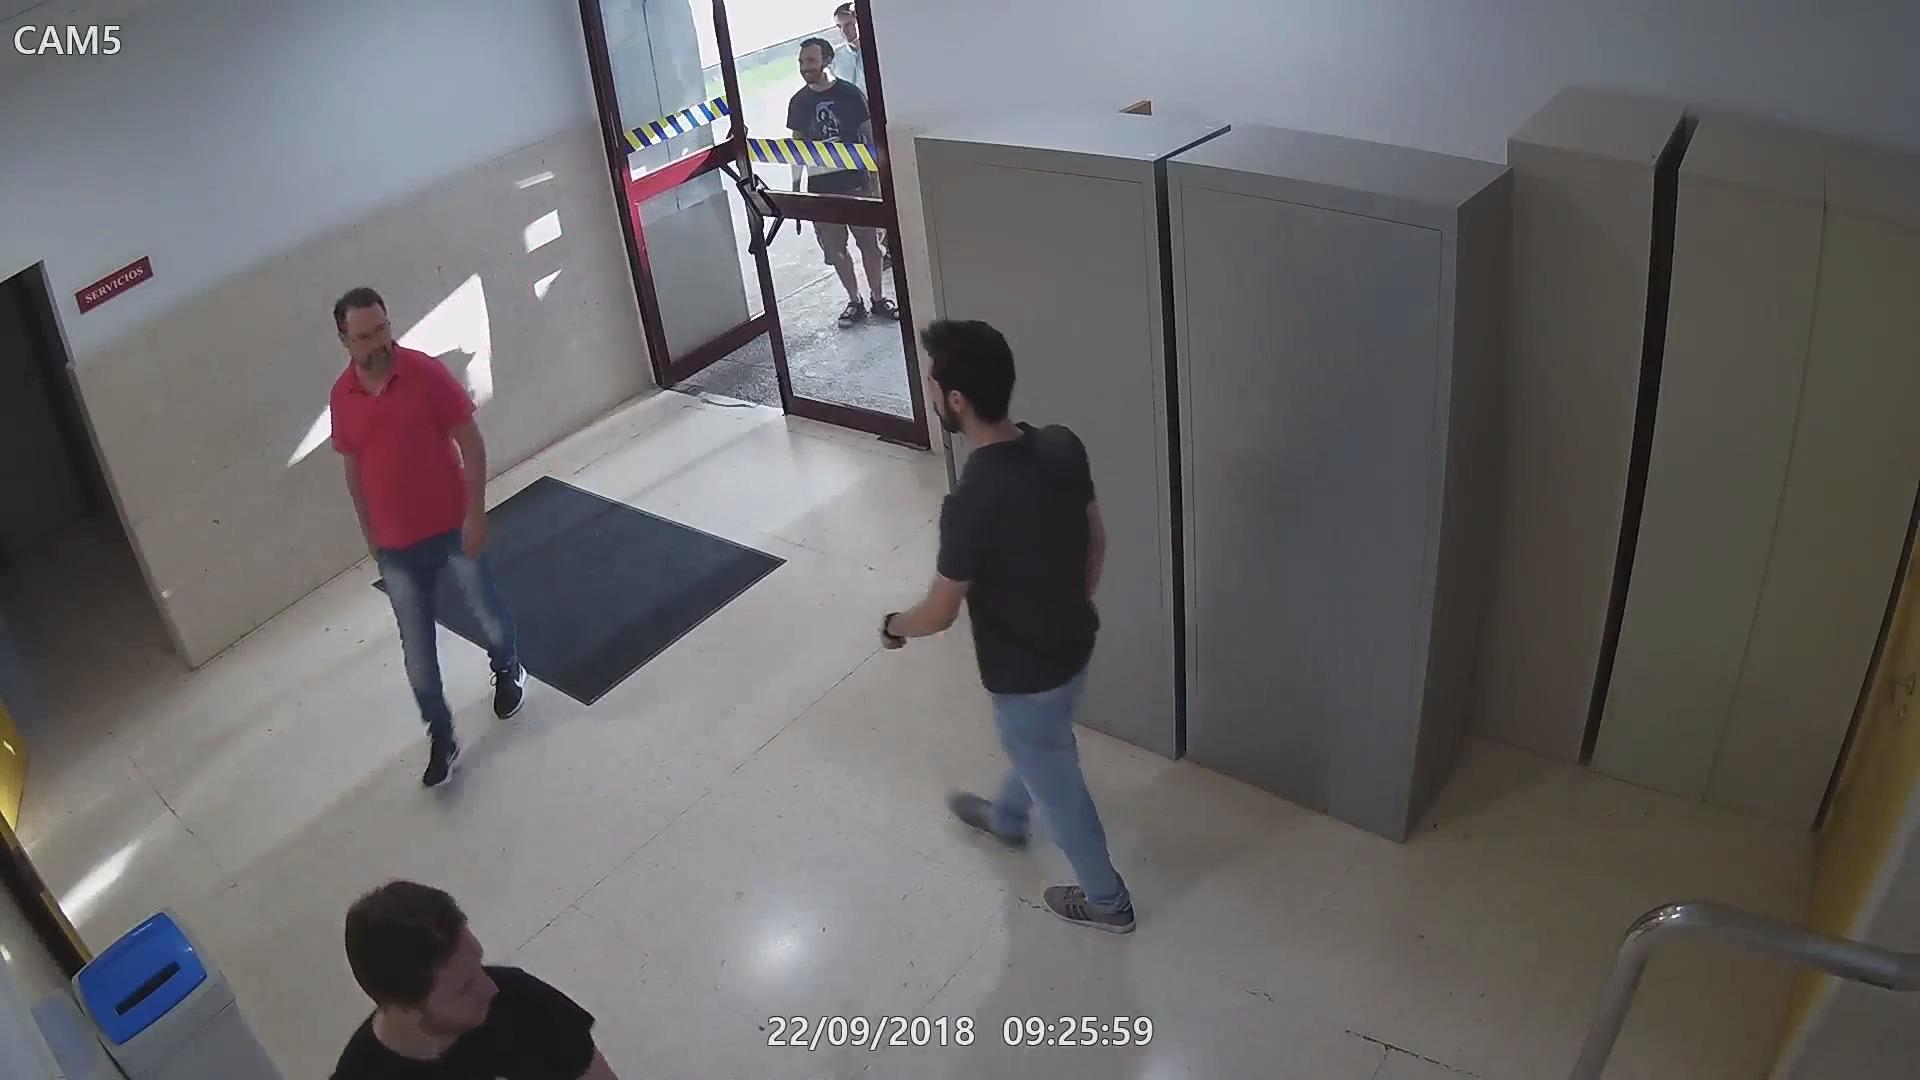Handgun: (785, 216, 806, 236)
